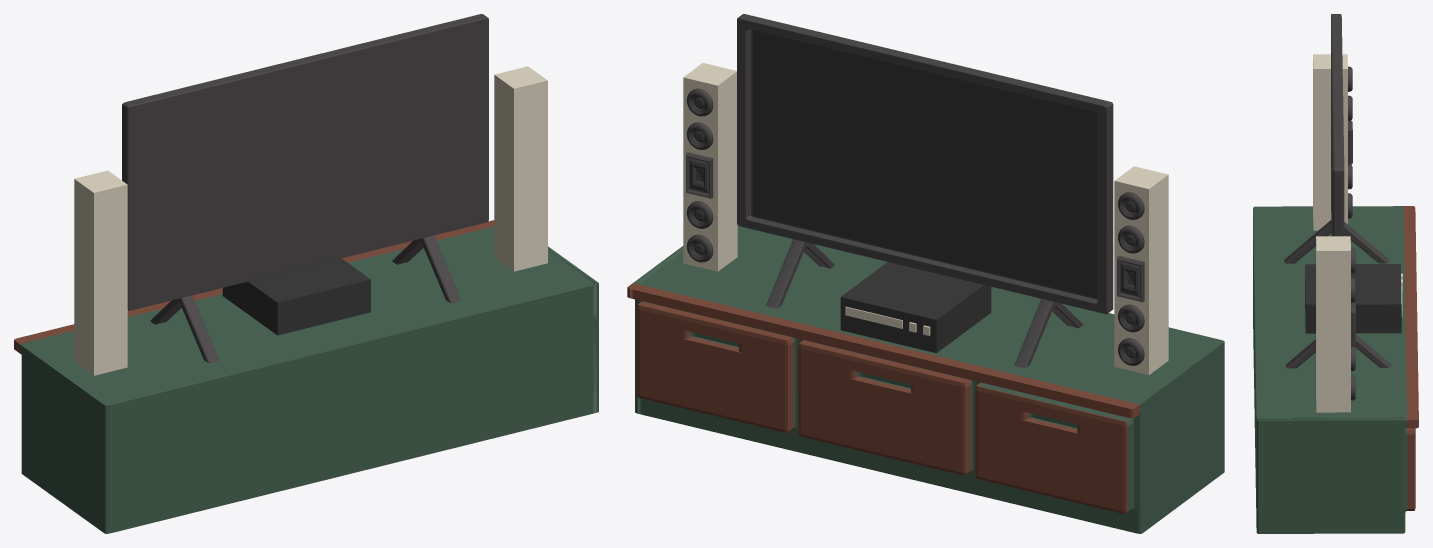
Rendered from Livingroom_TV.fbx.
3 renders of one model, left to right at view 1: azimuth 30°, elevation 25°; view 2: azimuth 150°, elevation 25°; view 3: azimuth 270°, elevation 25°, orthographic. The views are drawn at different scales.
Visible parts, largest first — view 1: Livingroom_TV.003, Livingroom_TV, Livingroom_TV.001, Livingroom_TV.002, Livingroom_TV.004; view 2: Livingroom_TV.002, Livingroom_TV.004, Livingroom_TV.003, Livingroom_TV, Livingroom_TV.001; view 3: Livingroom_TV.003, Livingroom_TV.001, Livingroom_TV, Livingroom_TV.002, Livingroom_TV.004.
Boxes of the visible parts, x1,y1,x2,y2 form: Livingroom_TV.003: (19, 226, 598, 533); Livingroom_TV: (122, 14, 488, 363); Livingroom_TV.001: (74, 66, 547, 375); Livingroom_TV.002: (222, 258, 370, 335); Livingroom_TV.004: (14, 220, 494, 352); Livingroom_TV.002: (753, 30, 1097, 353); Livingroom_TV.004: (627, 283, 1139, 514); Livingroom_TV.003: (633, 225, 1224, 533); Livingroom_TV: (686, 14, 1144, 367); Livingroom_TV.001: (683, 63, 1168, 375); Livingroom_TV.003: (1253, 206, 1407, 533); Livingroom_TV.001: (1313, 54, 1402, 412); Livingroom_TV: (1284, 14, 1390, 400); Livingroom_TV.002: (1305, 264, 1401, 333); Livingroom_TV.004: (1403, 206, 1418, 510).
Size of the model in its own units: 233 by 76.23 by 170.
